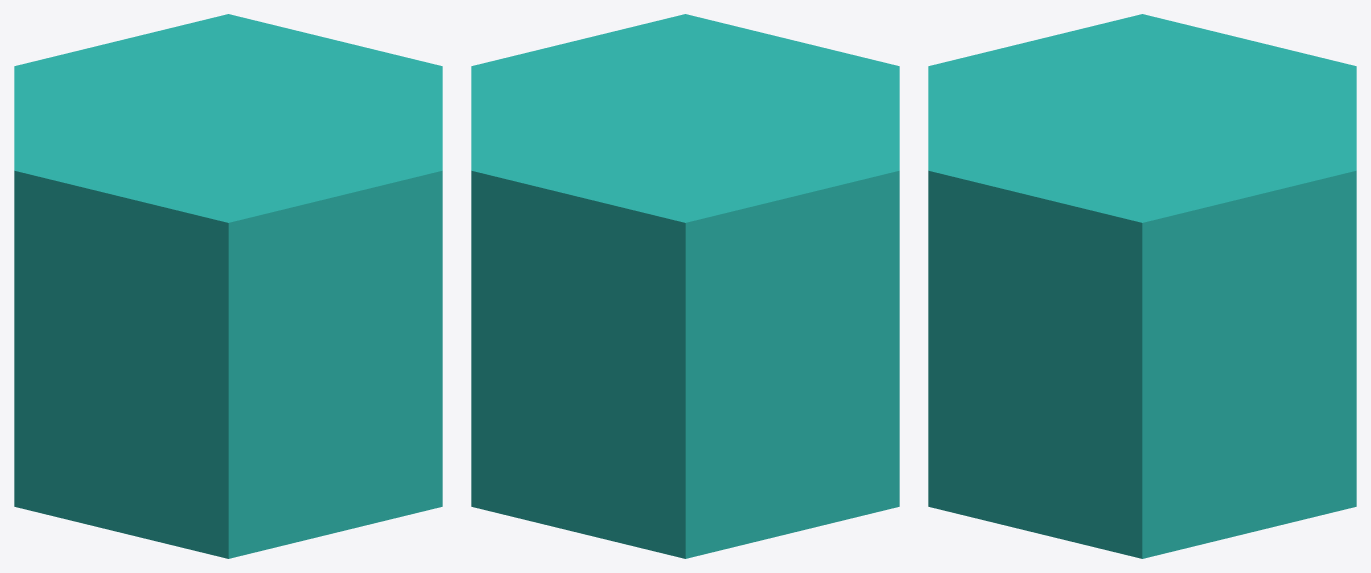
File: hexagonal-prism-lite.glb
3 renders of one model, left to right at view 1: azimuth 30°, elevation 25°; view 2: azimuth 150°, elevation 25°; view 3: azimuth 270°, elevation 25°, orthographic.
Visible parts, largest first — view 1: Hexagonal prism; view 2: Hexagonal prism; view 3: Hexagonal prism.
Part boxes in pixels (<box>): Hexagonal prism: <box>14,14,442,558</box>; Hexagonal prism: <box>471,14,899,558</box>; Hexagonal prism: <box>928,14,1356,558</box>.
Bounding box in the file's own units: 1.6 × 1.2 × 1.39.
